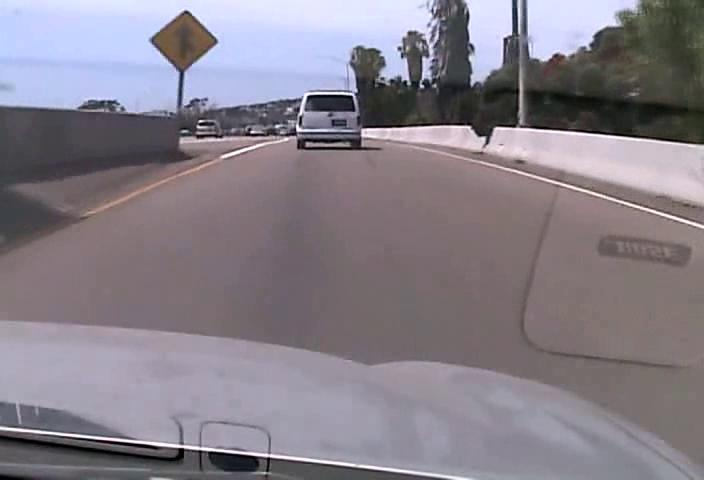merge: (147, 10, 219, 71)
